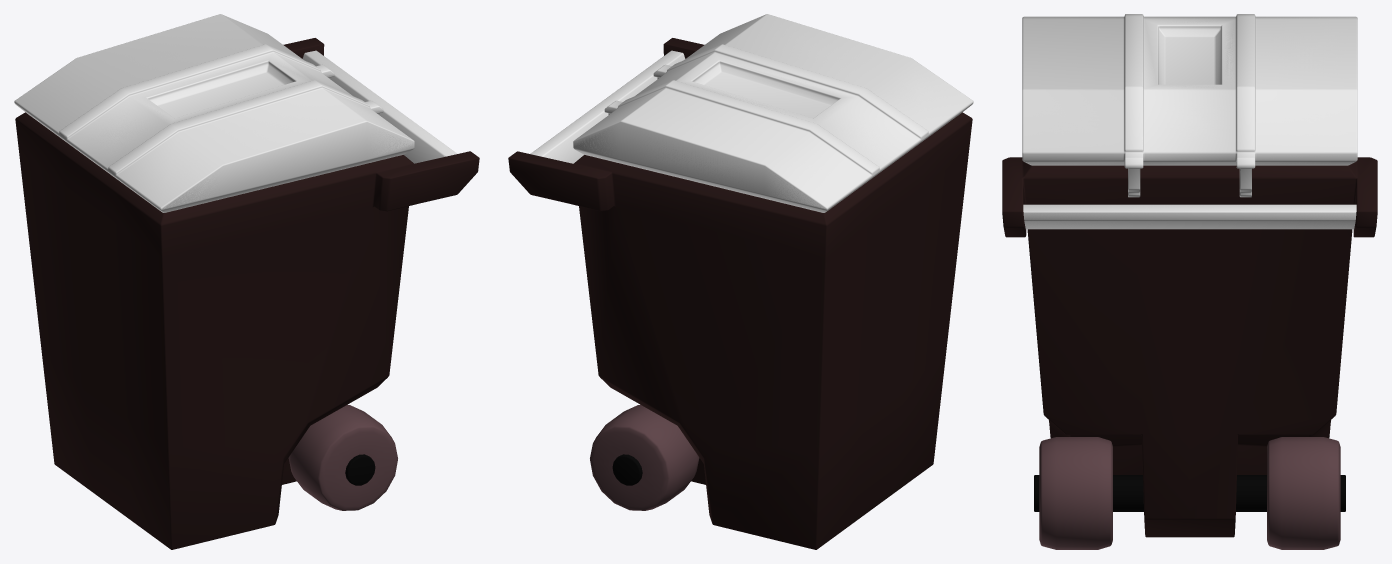
The model's file is kanta za smece1.fbx.
3 views of the same model, side by side, from view 1: azimuth 30°, elevation 25°; view 2: azimuth 150°, elevation 25°; view 3: azimuth 270°, elevation 25° (orthographic). The views are drawn at different scales.
Parts seen in each view (by area): view 1: Cube.009; view 2: Cube.009; view 3: Cube.009.
Part boxes in pixels (bbox=[...]): Cube.009: bbox=[14, 14, 479, 549]; Cube.009: bbox=[508, 14, 973, 549]; Cube.009: bbox=[1002, 14, 1377, 549].
Bounding box in the file's own units: 195 × 241 × 179.
